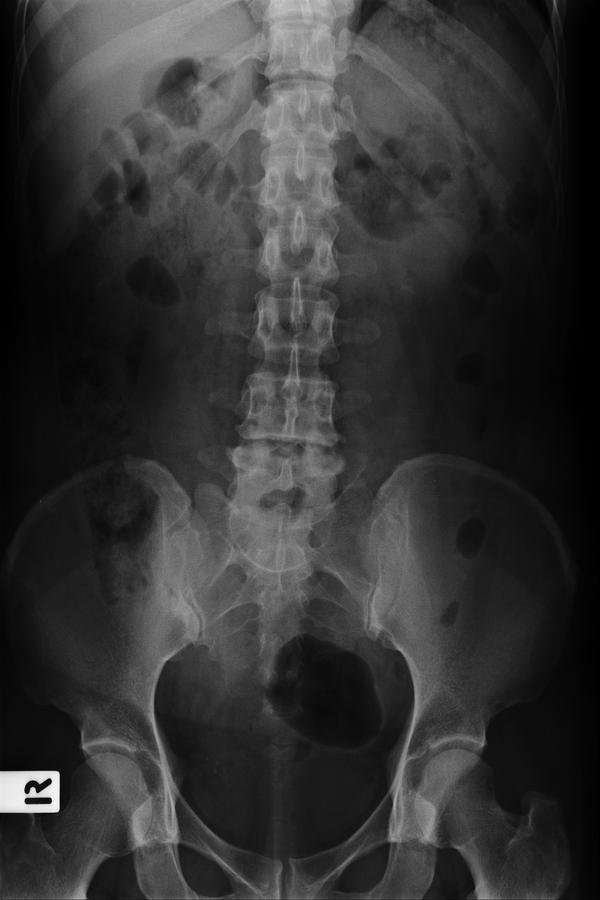lumbar scoliosis: (233, 5, 351, 552)
